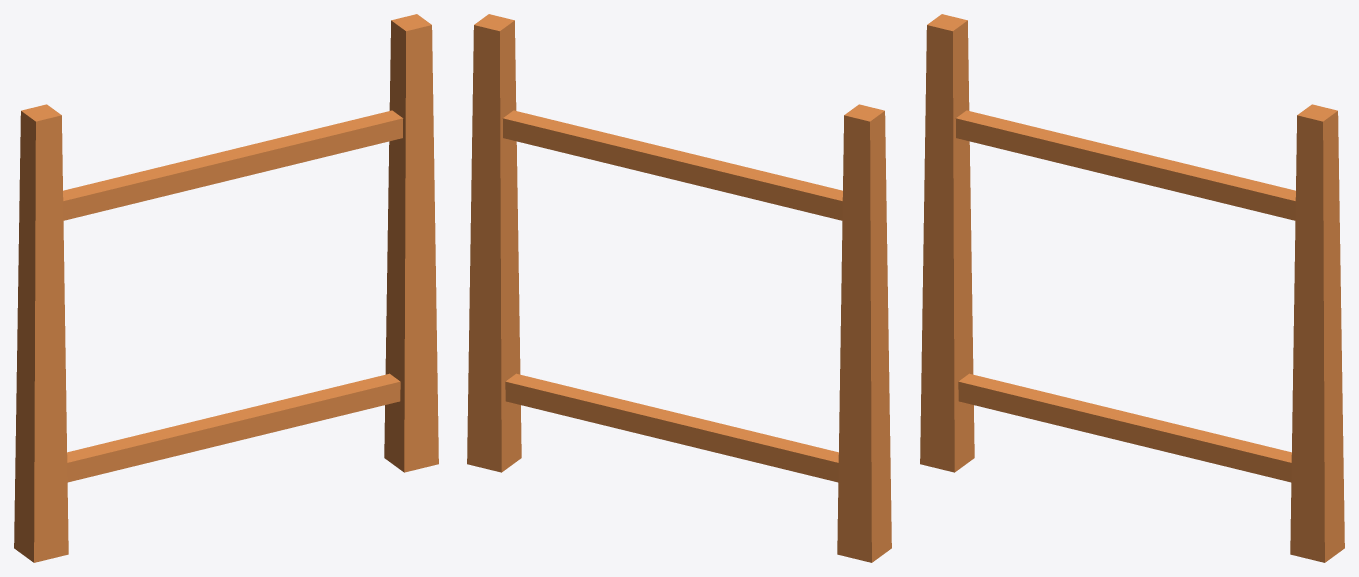
Rendered from fence-frame.glb.
3 renders of one model, left to right at view 1: azimuth 30°, elevation 25°; view 2: azimuth 150°, elevation 25°; view 3: azimuth 330°, elevation 25°, orthographic.
Visible parts, largest first — view 1: fence; view 2: fence; view 3: fence.
Part boxes in pixels (x1,y1,x2,y2): fence: (14, 14, 438, 562); fence: (467, 14, 891, 562); fence: (920, 14, 1344, 562).
Size of the model in its own units: 0.5 by 0.5175 by 0.0428.
